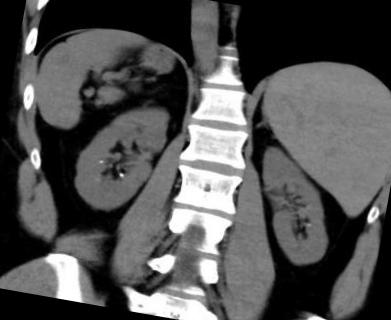Tas_Var: (116, 171, 125, 179), (97, 157, 105, 165), (304, 220, 312, 227)
